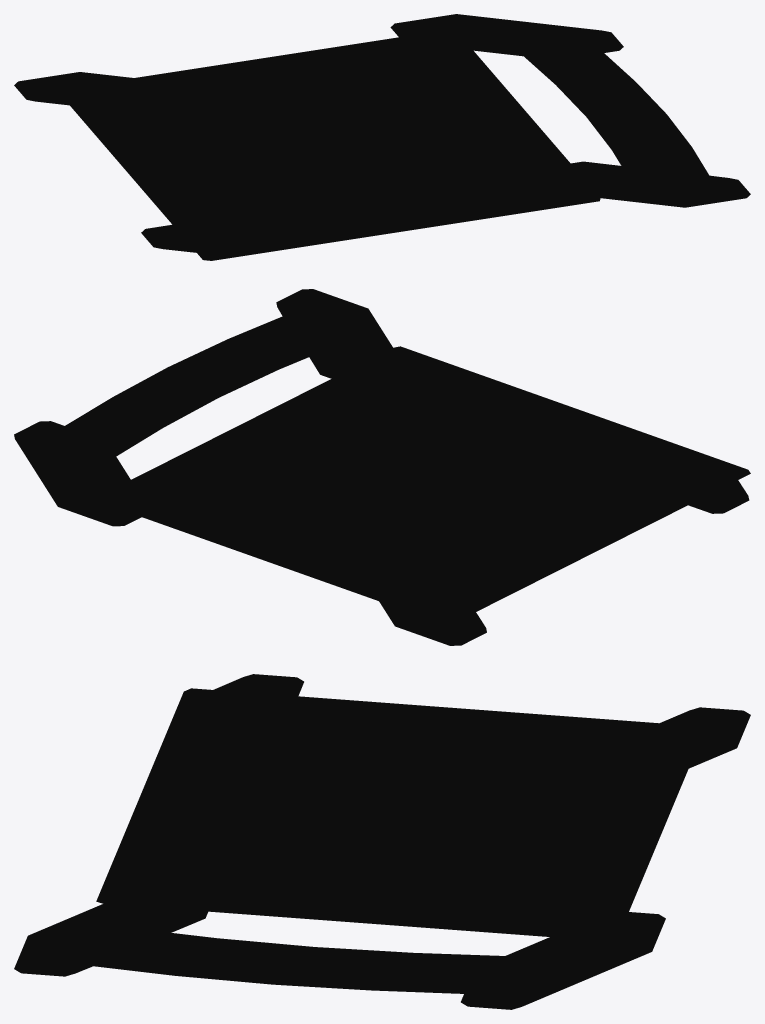
3 renders of one model, top to bottom at view 1: azimuth 30°, elevation 25°; view 2: azimuth 150°, elevation 25°; view 3: azimuth 270°, elevation 25°, orthographic. The views are drawn at different scales.
Visible parts, largest first — view 1: Joint_0_Object_0; view 2: Joint_0_Object_0; view 3: Joint_0_Object_0.
Boxes of the visible parts, x1,y1,x2,y2 form: Joint_0_Object_0: (14,14,750,260); Joint_0_Object_0: (14,289,750,645); Joint_0_Object_0: (14,674,750,1009).
Size of the model in its own units: 894 by 0 by 829.
1 material, 1 textured.
